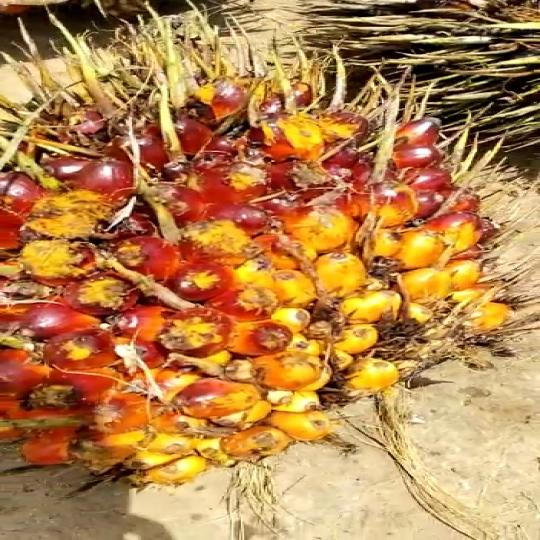masak: (0, 36, 540, 477)
